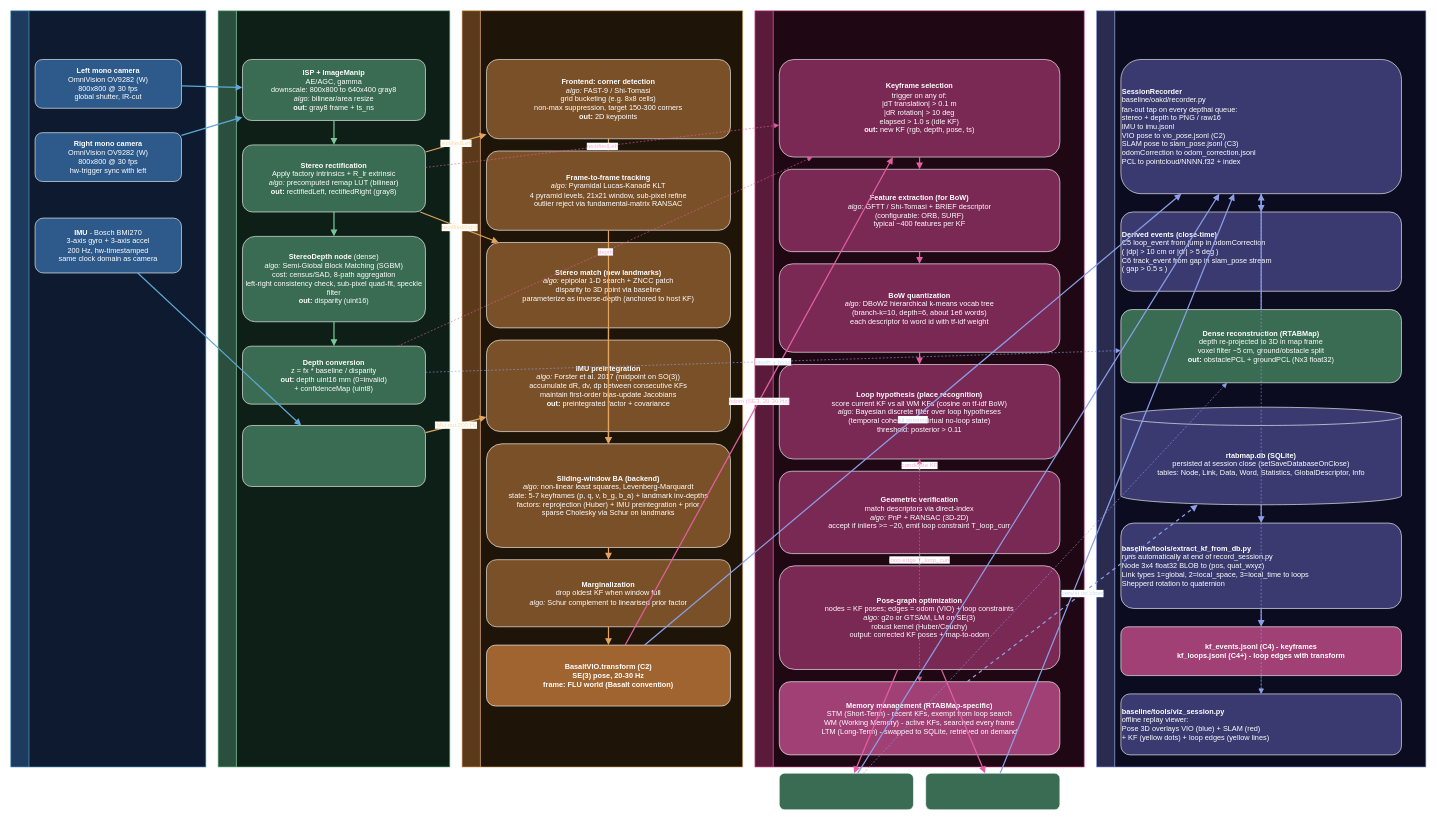
Image size: 1437x820. Some labels were removed from this diagram. The shapes that lost their labels are listed below. From the top down, each one's box as (x1, y1, x2, y2) in pixels, then its label:
(10, 10, 206, 767): HARDWARE - OAK-D W
(217, 10, 450, 767): ON-DEVICE VPU (Myriad X, depthai blobs)
(461, 10, 743, 767): VIO - BasaltVIO node (host CPU, ThreadedHostNode)
(754, 10, 1084, 767): SLAM - RTABMapSLAM node (host CPU)
(1096, 10, 1426, 767): APP + STORAGE (oak-d project)
(242, 425, 425, 486): IMU sync block buffer IMU samples, attach common ts_ns out: IMU.out @ 200 Hz
(779, 773, 913, 810): RTABMapSLAM.transform (C3) loop-corrected SE(3) pose
(925, 773, 1060, 810): odomCorrection map-to-odom SE(3) delta
